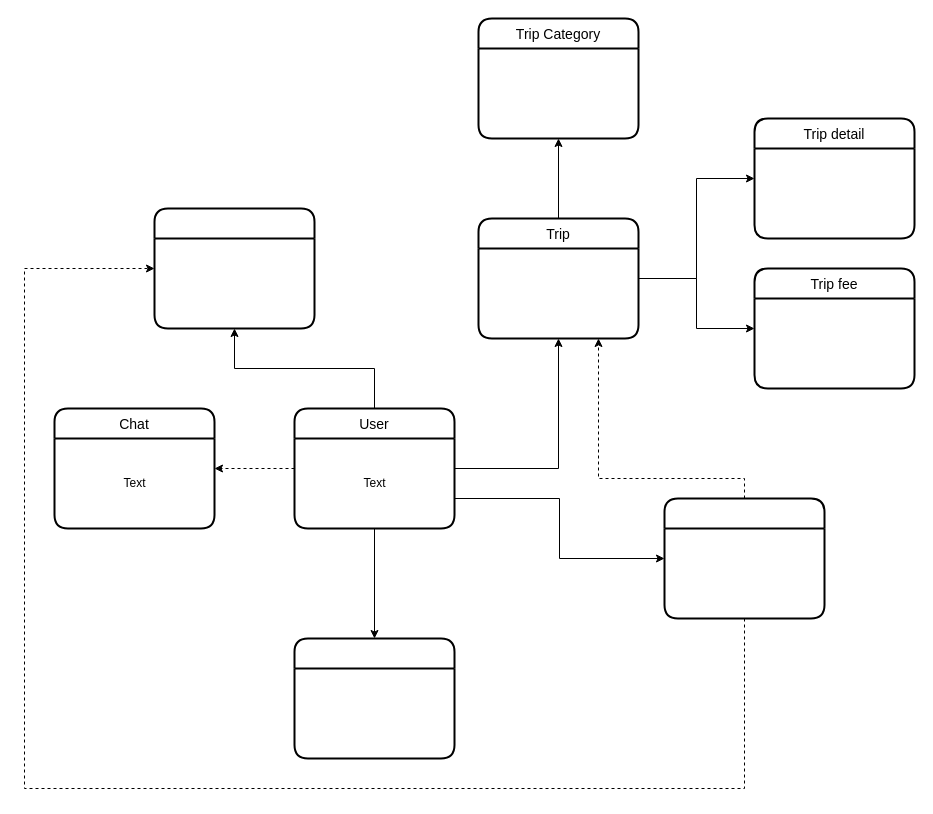
Some shapes in this 933 by 814 pixel diagram are drawn without their labels. Here are the shapes that lost their labels. From the top down, the centre of each, then its label:
At [234,268]: "Post".
At [744,558]: "Review".
At [374,698]: "Guide".
